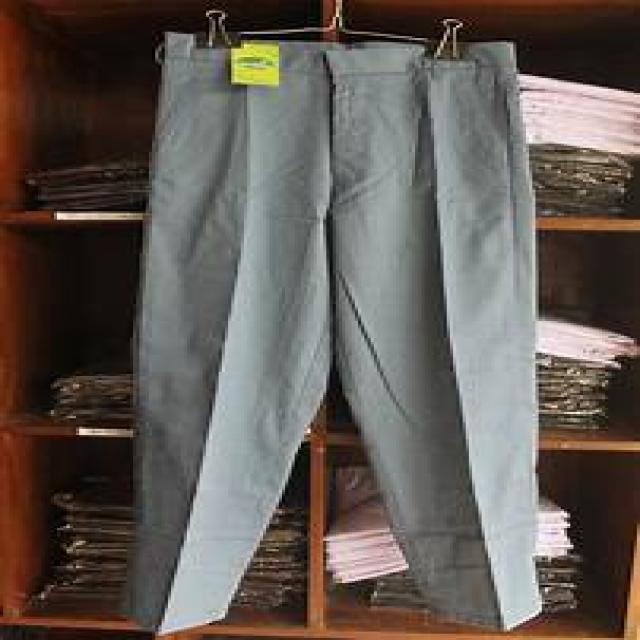long-pants: (119, 29, 548, 636)
